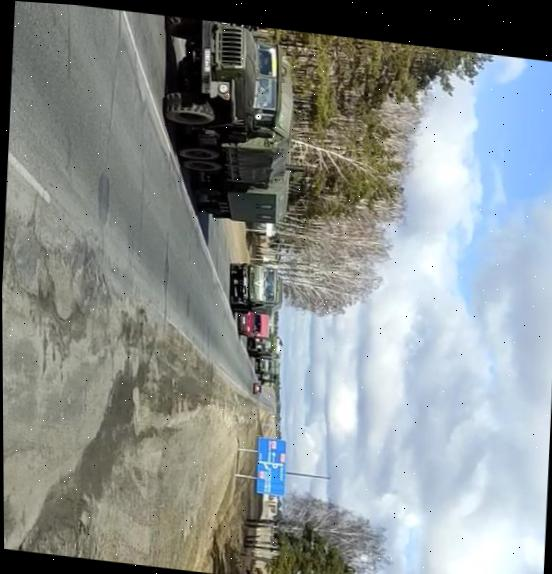car: (233, 311, 274, 346), (249, 379, 261, 399)
truck: (152, 15, 302, 233), (222, 257, 287, 319), (238, 326, 285, 362), (251, 352, 280, 383)
